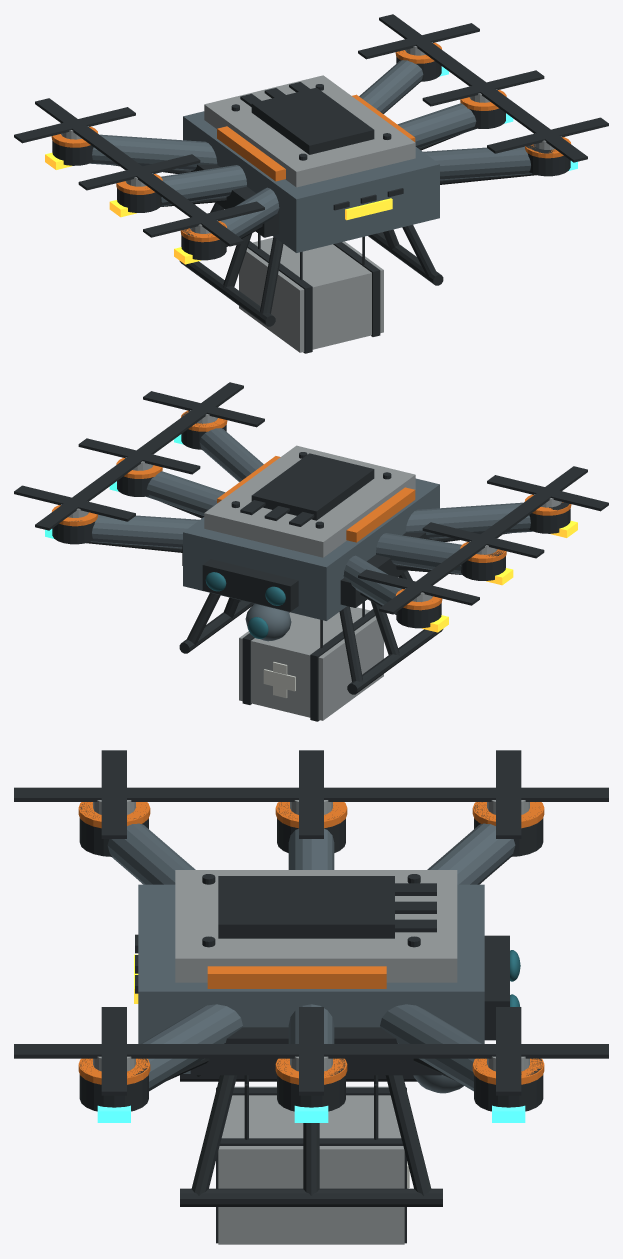
Rendered from rescue-drone.glb.
3 views of the same model, one above another, from view 1: azimuth 30°, elevation 25°; view 2: azimuth 150°, elevation 25°; view 3: azimuth 270°, elevation 25° (orthographic). The views are drawn at different scales.
Parts seen in each view (by area): view 1: Main chassis, Relief cargo case, Top armoured shell, Center dorsal panel, Reinforced arm.003, Reinforced arm.002, Reinforced arm.001, Reinforced arm.004, Reinforced arm.005, Orange shoulder stripe, Reinforced arm, Carbon rotor blade.002 (+25 smaller); view 2: Main chassis, Relief cargo case, Top armoured shell, Center dorsal panel, Reinforced arm.005, Forward sensor bay, Reinforced arm, Reinforced arm.001, Reinforced arm.004, Reinforced arm.003, Orange shoulder stripe, Reinforced arm.002 (+27 smaller); view 3: Relief cargo case, Main chassis, Top armoured shell, Center dorsal panel, Side body rail.001, Landing skid.001, Orange shoulder stripe.001, Reinforced arm.003, Reinforced arm.005, Reinforced arm, Carbon rotor blade.007, Reinforced arm.002 (+32 smaller).
Part boxes in pixels (x1=…): Main chassis: x1=183, y1=111, x2=439, y2=252; Relief cargo case: x1=239, y1=237, x2=383, y2=352; Top armoured shell: x1=204, y1=75, x2=415, y2=187; Center dorsal panel: x1=251, y1=87, x2=374, y2=154; Reinforced arm.003: x1=423, y1=146, x2=532, y2=180; Reinforced arm.002: x1=90, y1=134, x2=217, y2=170; Reinforced arm.001: x1=161, y1=165, x2=246, y2=206; Reinforced arm.004: x1=397, y1=103, x2=476, y2=148; Reinforced arm.005: x1=359, y1=60, x2=423, y2=113; Orange shoulder stripe: x1=217, y1=126, x2=285, y2=181; Reinforced arm: x1=221, y1=187, x2=279, y2=245; Carbon rotor blade.002: x1=78, y1=154, x2=200, y2=190; Main chassis: x1=183, y1=478, x2=439, y2=620; Relief cargo case: x1=239, y1=607, x2=383, y2=720; Top armoured shell: x1=204, y1=445, x2=415, y2=557; Center dorsal panel: x1=251, y1=453, x2=374, y2=520; Reinforced arm.005: x1=90, y1=514, x2=199, y2=548; Forward sensor bay: x1=202, y1=559, x2=298, y2=611; Reinforced arm: x1=405, y1=502, x2=532, y2=538; Reinforced arm.001: x1=376, y1=533, x2=461, y2=574; Reinforced arm.004: x1=146, y1=471, x2=225, y2=515; Reinforced arm.003: x1=199, y1=428, x2=263, y2=481; Orange shoulder stripe: x1=346, y1=487, x2=415, y2=542; Reinforced arm.002: x1=343, y1=555, x2=401, y2=613; Relief cargo case: x1=218, y1=1086, x2=404, y2=1244; Main chassis: x1=138, y1=884, x2=484, y2=1073; Top armoured shell: x1=175, y1=870, x2=457, y2=982; Center dorsal panel: x1=218, y1=876, x2=394, y2=938; Side body rail.001: x1=190, y1=1027, x2=441, y2=1075; Landing skid.001: x1=180, y1=1188, x2=442, y2=1206; Orange shoulder stripe.001: x1=207, y1=966, x2=386, y2=988; Reinforced arm.003: x1=141, y1=1004, x2=242, y2=1091; Reinforced arm.005: x1=380, y1=1004, x2=481, y2=1091; Reinforced arm: x1=107, y1=823, x2=195, y2=884; Carbon rotor blade.007: x1=14, y1=1044, x2=214, y2=1058; Reinforced arm.002: x1=427, y1=823, x2=515, y2=884.
Bounding box in the file's own units: 3.38 × 1.46 × 2.49.
